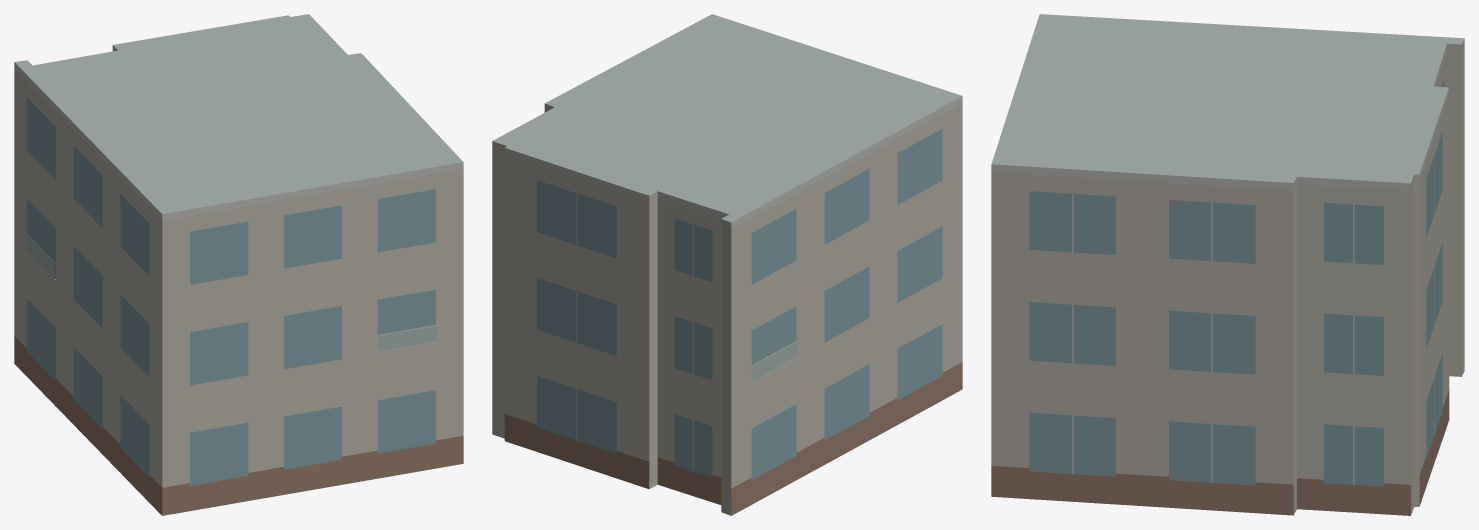
The model's file is survey-upis-33040321.glb.
3 views of the same model, side by side, from view 1: azimuth 30°, elevation 25°; view 2: azimuth 150°, elevation 25°; view 3: azimuth 270°, elevation 25° (orthographic). The views are drawn at different scales.
Parts seen in each view (by area): view 1: survey-upis-33040321.tmp; view 2: survey-upis-33040321.tmp; view 3: survey-upis-33040321.tmp.
Part boxes in pixels (x1=…): survey-upis-33040321.tmp: x1=14, y1=14, x2=463, y2=515; survey-upis-33040321.tmp: x1=492, y1=14, x2=962, y2=515; survey-upis-33040321.tmp: x1=991, y1=14, x2=1464, y2=515.
Size of the model in its own units: 12.02 by 10.98 by 14.18.
